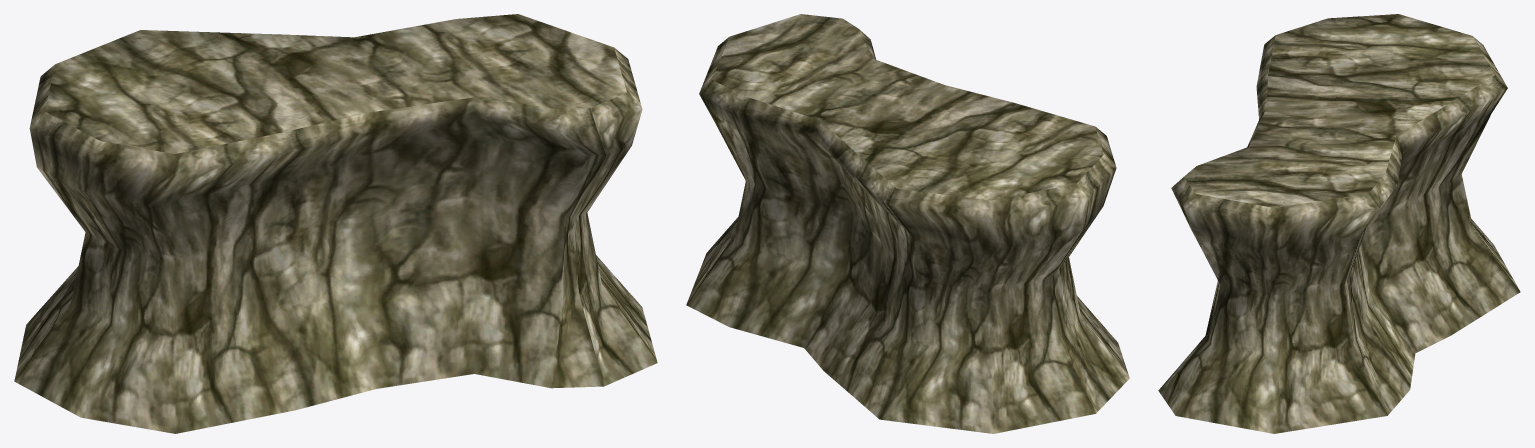
Rendered from CB_NEWPLAYSURFACE_CB_PLAYSURFACE05.fbx.
The picture shows the model from 3 angles, left to right: view 1: azimuth 30°, elevation 25°; view 2: azimuth 150°, elevation 25°; view 3: azimuth 270°, elevation 25°; orthographic projection. The views are drawn at different scales.
Visible parts, largest first — view 1: CB_NEWPLAYSURFACE_CB_PLAYSURFACE05; view 2: CB_NEWPLAYSURFACE_CB_PLAYSURFACE05; view 3: CB_NEWPLAYSURFACE_CB_PLAYSURFACE05.
Boxes of the visible parts, x1,y1,x2,y2 form: CB_NEWPLAYSURFACE_CB_PLAYSURFACE05: (14,14,657,433); CB_NEWPLAYSURFACE_CB_PLAYSURFACE05: (686,14,1129,433); CB_NEWPLAYSURFACE_CB_PLAYSURFACE05: (1158,14,1520,433).
Size of the model in its own units: 142763 by 66374 by 101388.
2 materials, 2 textured.
